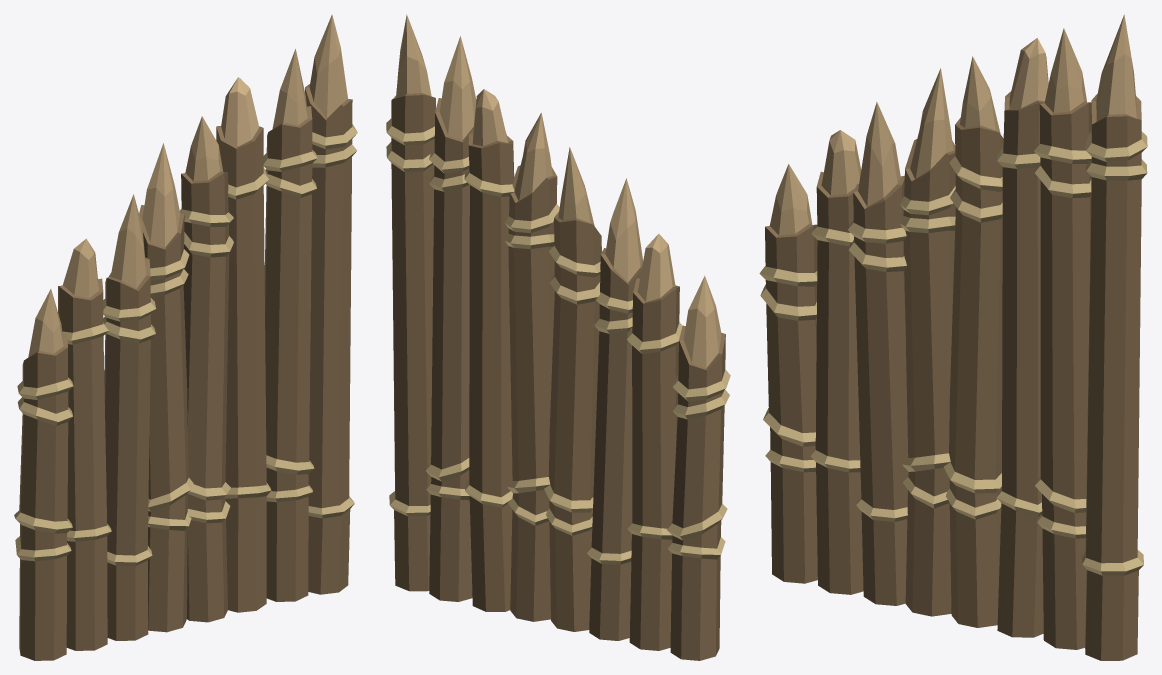
Rendered from rpgpp_ag_stockade_end_01a.fbx.
3 views of the same model, side by side, from view 1: azimuth 30°, elevation 25°; view 2: azimuth 150°, elevation 25°; view 3: azimuth 330°, elevation 25° (orthographic). The views are drawn at different scales.
Visible parts, largest first — view 1: rpgpp_ag_stockade_end_01a; view 2: rpgpp_ag_stockade_end_01a; view 3: rpgpp_ag_stockade_end_01a.
Part boxes in pixels (box(x1,y1,x2,y2)): rpgpp_ag_stockade_end_01a: box(14, 14, 357, 660); rpgpp_ag_stockade_end_01a: box(386, 14, 730, 660); rpgpp_ag_stockade_end_01a: box(759, 14, 1147, 660).
Bounding box in the file's own units: 4.18 × 6.72 × 0.8463.
